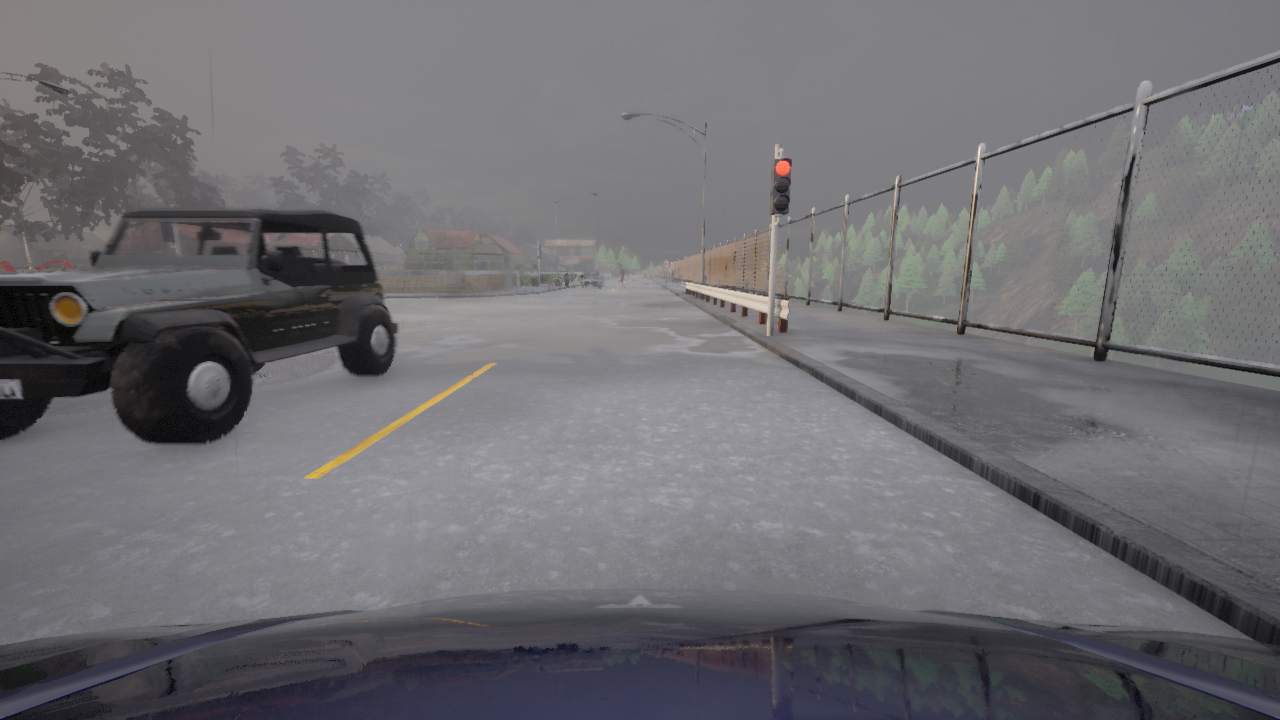cyclist: (0, 588, 1279, 719), (0, 208, 399, 444), (581, 270, 603, 287)
pedestrian: (615, 264, 626, 291), (532, 265, 538, 285)
